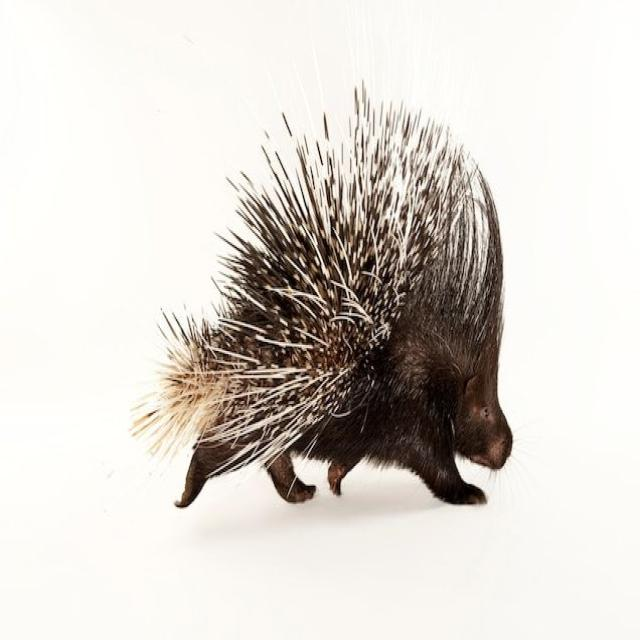Porcupine: (152, 103, 518, 508)
